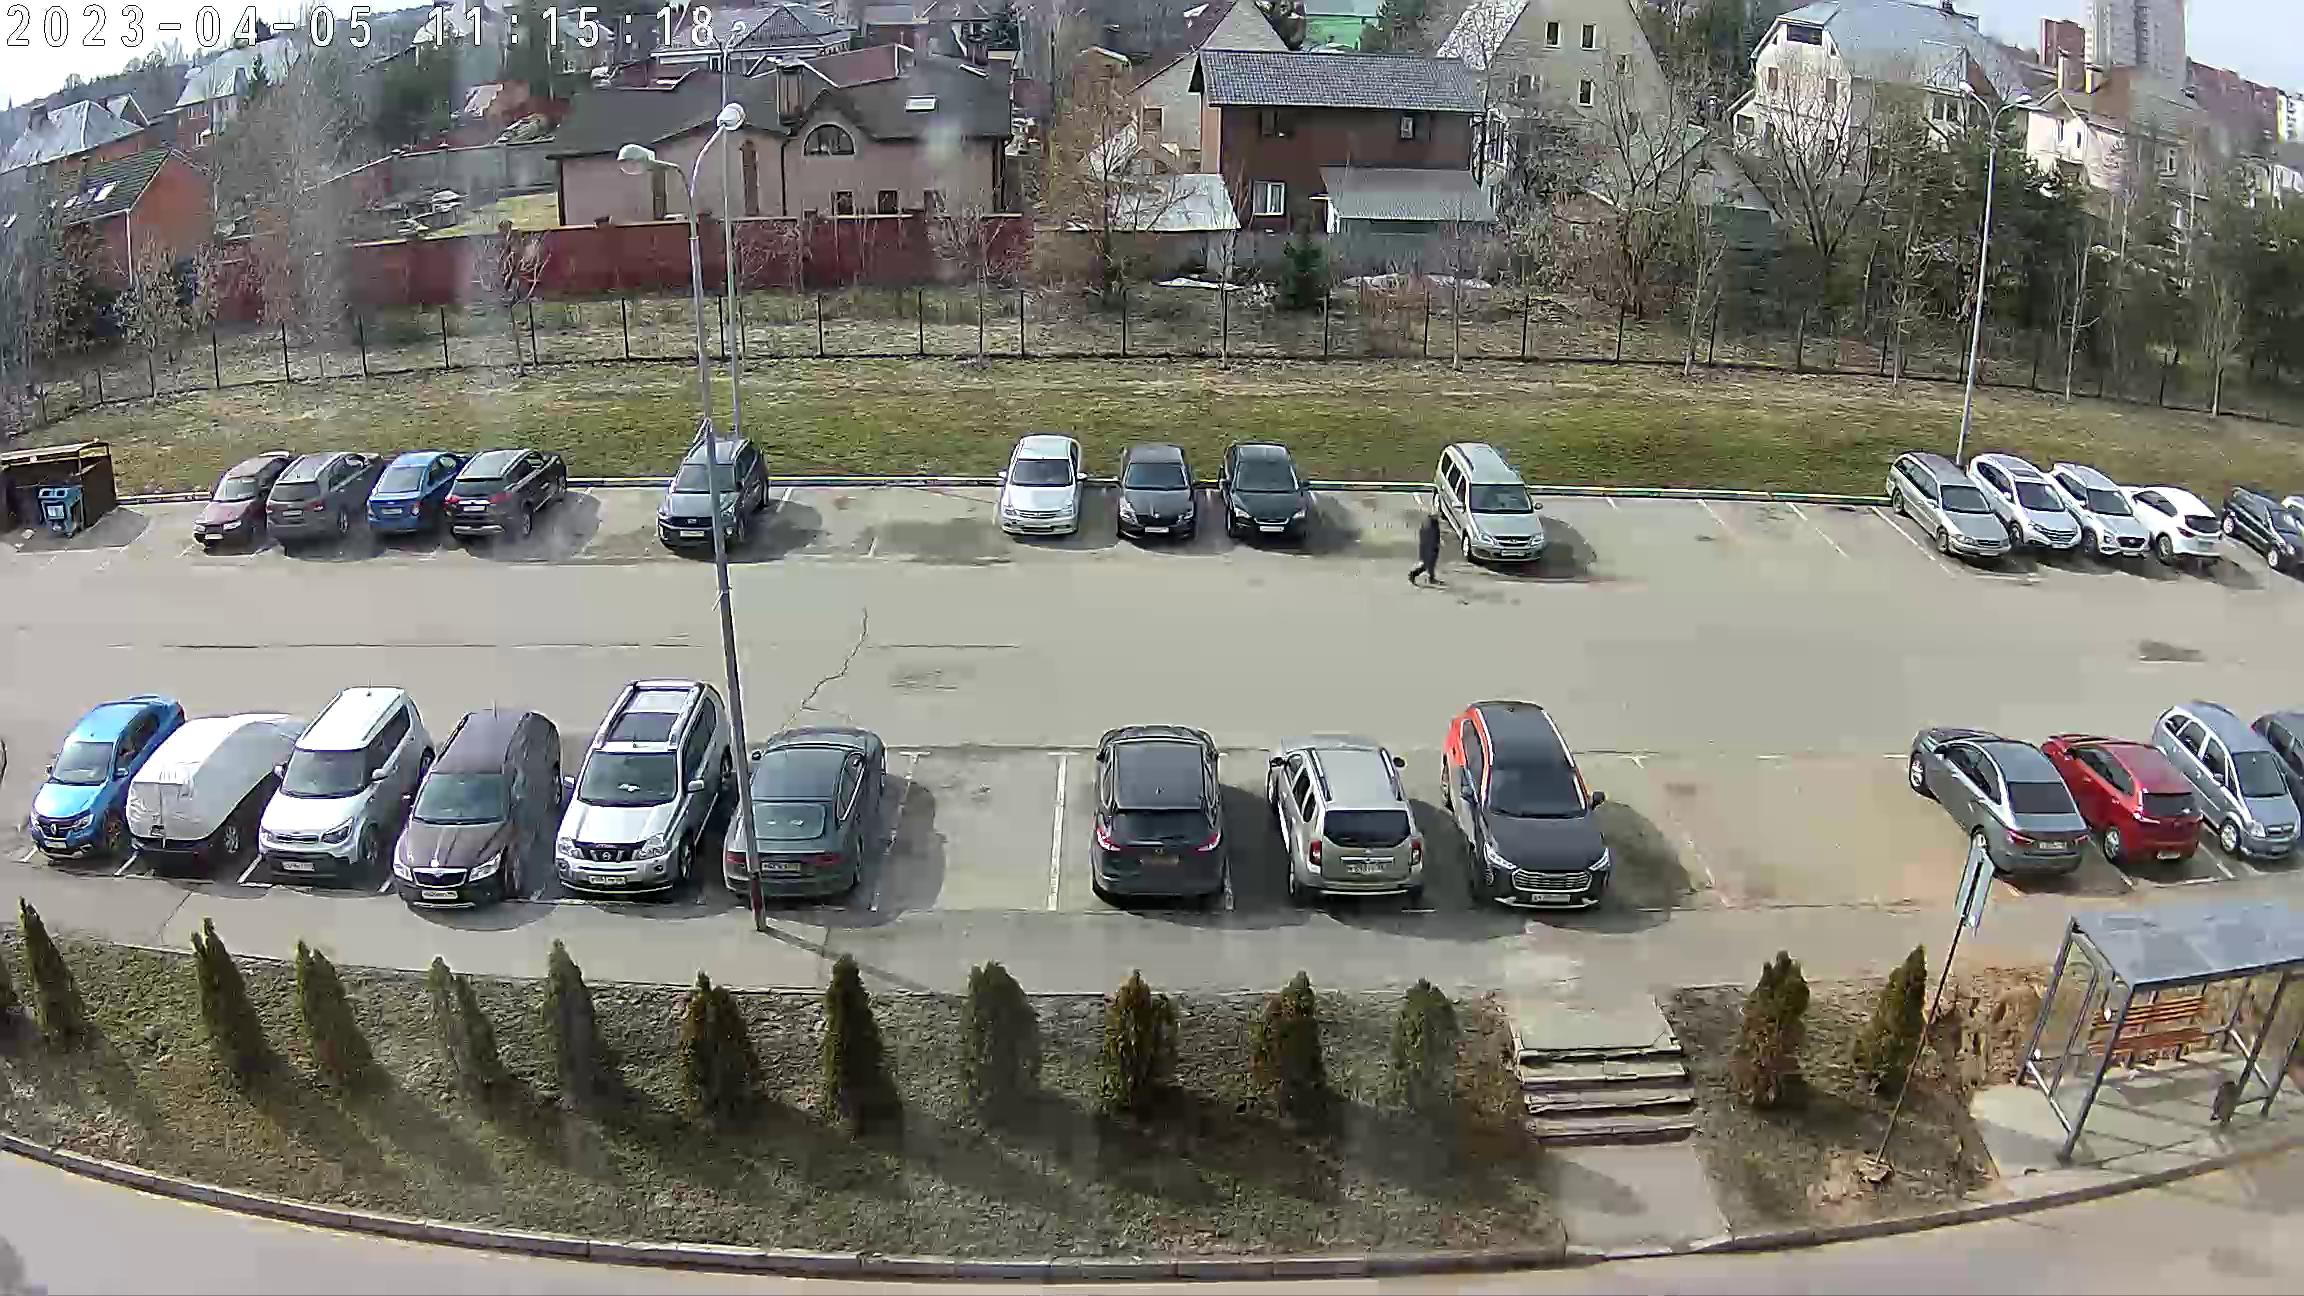empty: (540, 679, 728, 888), (1446, 704, 1631, 916), (120, 692, 305, 896), (717, 722, 905, 915), (1065, 722, 1250, 916), (236, 696, 424, 880), (397, 712, 560, 905), (1269, 736, 1445, 913), (21, 699, 179, 869), (1918, 741, 2106, 872), (2056, 734, 2207, 870), (1419, 446, 1570, 579), (2174, 711, 2301, 867), (1880, 449, 2051, 565), (636, 441, 774, 565), (226, 445, 370, 557), (426, 446, 567, 544), (1098, 441, 1212, 554), (1209, 443, 1328, 551), (994, 438, 1101, 555), (2049, 460, 2177, 559), (2113, 473, 2239, 568), (353, 449, 468, 548), (2, 449, 112, 548), (2225, 486, 2304, 582)
occupied: (900, 791, 1040, 900), (1834, 737, 1940, 880), (1578, 750, 1681, 878), (1794, 483, 1926, 581), (1616, 468, 1722, 587), (1704, 756, 1806, 877), (889, 476, 1013, 568), (1313, 475, 1440, 563), (1711, 479, 1810, 582), (1530, 467, 1620, 573), (774, 487, 883, 562), (2192, 506, 2279, 578), (570, 492, 654, 560), (128, 498, 209, 557)
